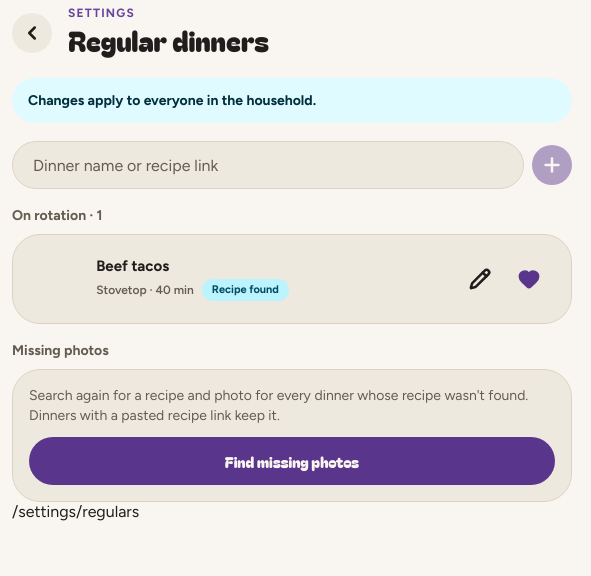
RegularsSettingsPage › takes back an add the server refuses and says why
Expected: the heading "On rotation · 1" is shown, top-left (12, 207), bottom-right (102, 224)
Type "Beef tacos!" into the field named "Add a Regular". click: (268, 165)
box: top-left (12, 141), bottom-right (524, 189)
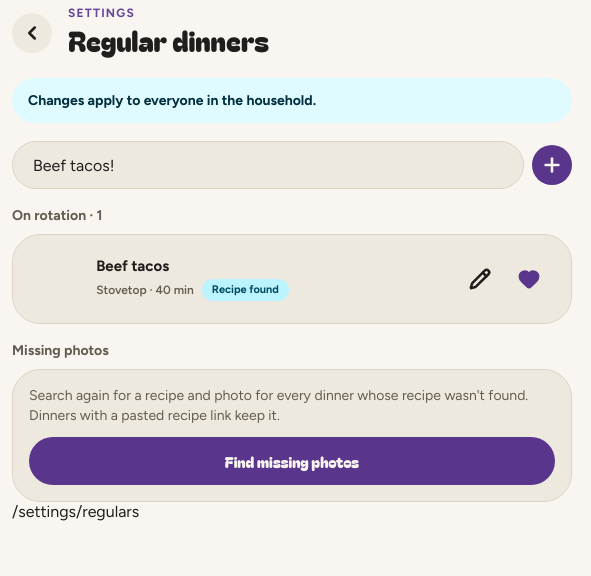
Click the button named "Add Regular". click: (552, 165)
box: top-left (530, 143), bottom-right (574, 187)
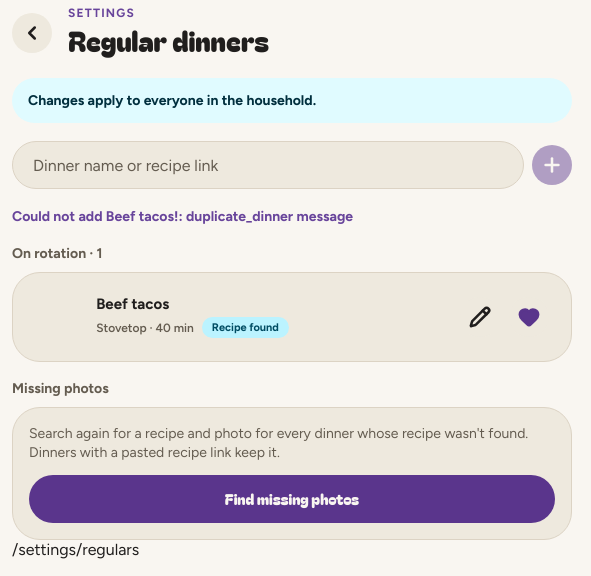
Expected: the number of list items is 1, top-left (19, 279), bottom-right (565, 355)
Now the message reads "Could not add Beef tacos!: duplicate_dinner message", box top-left (12, 208), bottom-right (353, 225)
